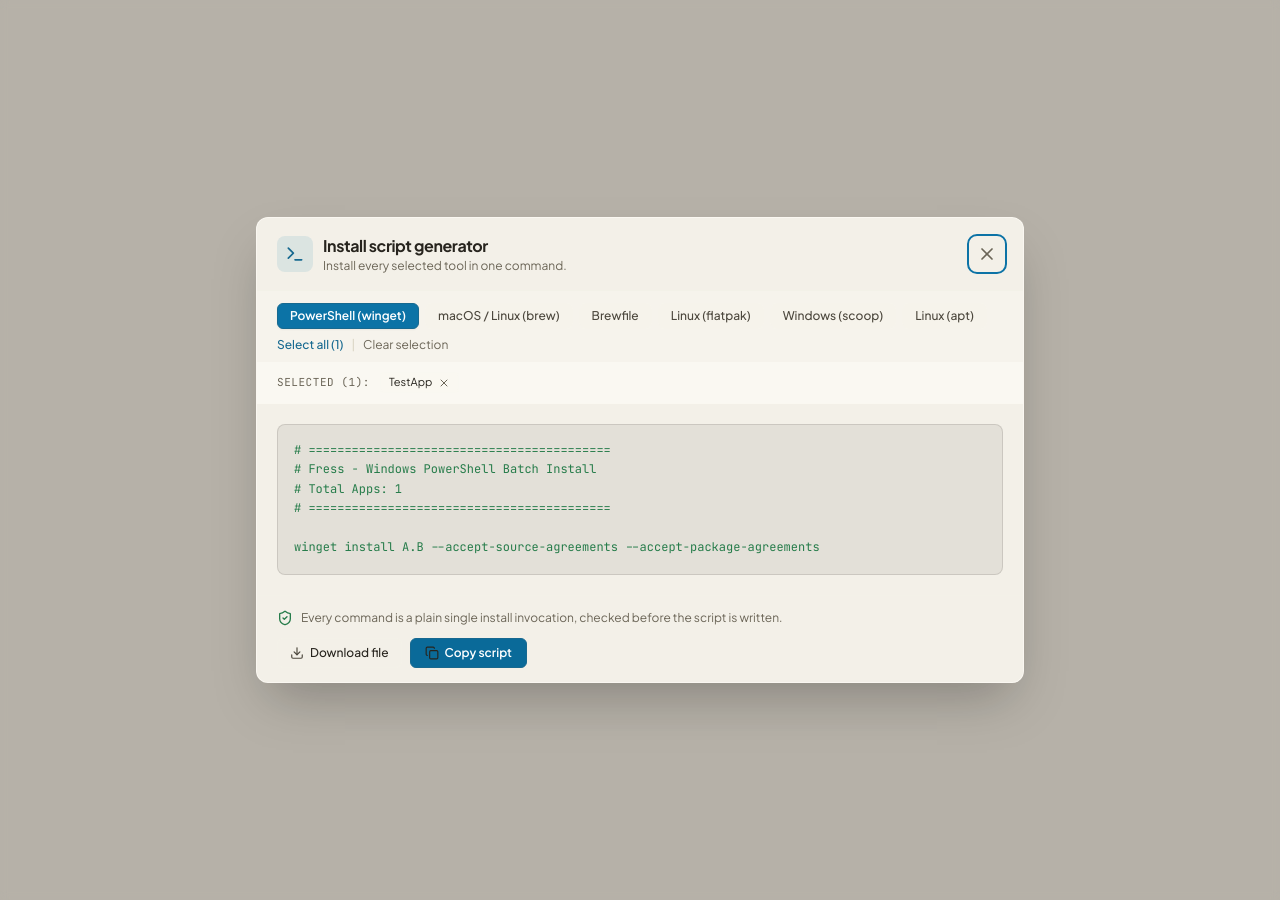
Test: batch script generation speaks the active language › switching the script format clears the stale Copied feedback
Click the button "Copy script" at [468, 653], box x1=410 y1=638 x2=527 y2=668
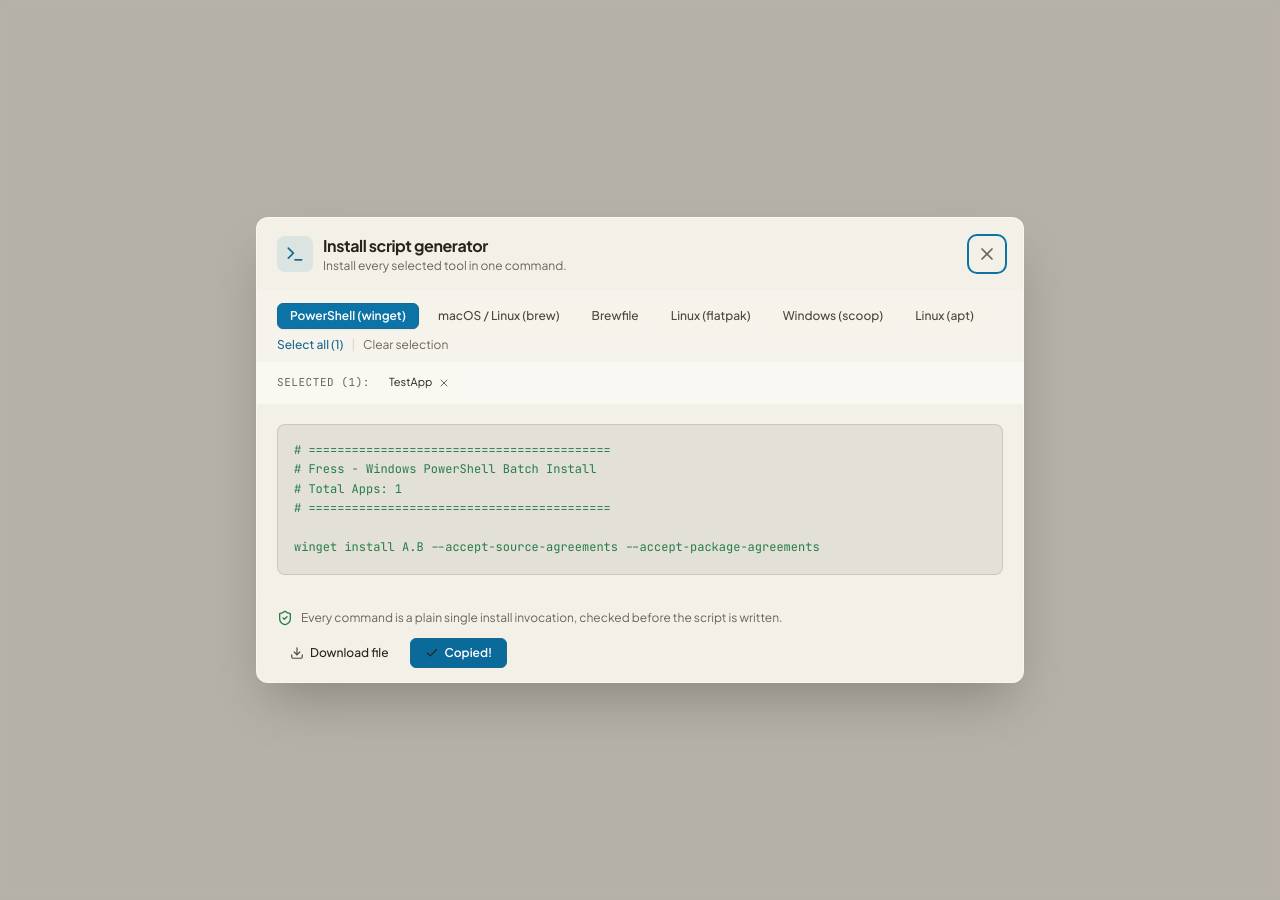
Result: the text "Copied!" is shown at x1=445 y1=645 x2=492 y2=661
Click the button "macOS / Linux (brew)" at [499, 316], box x1=425 y1=303 x2=573 y2=329
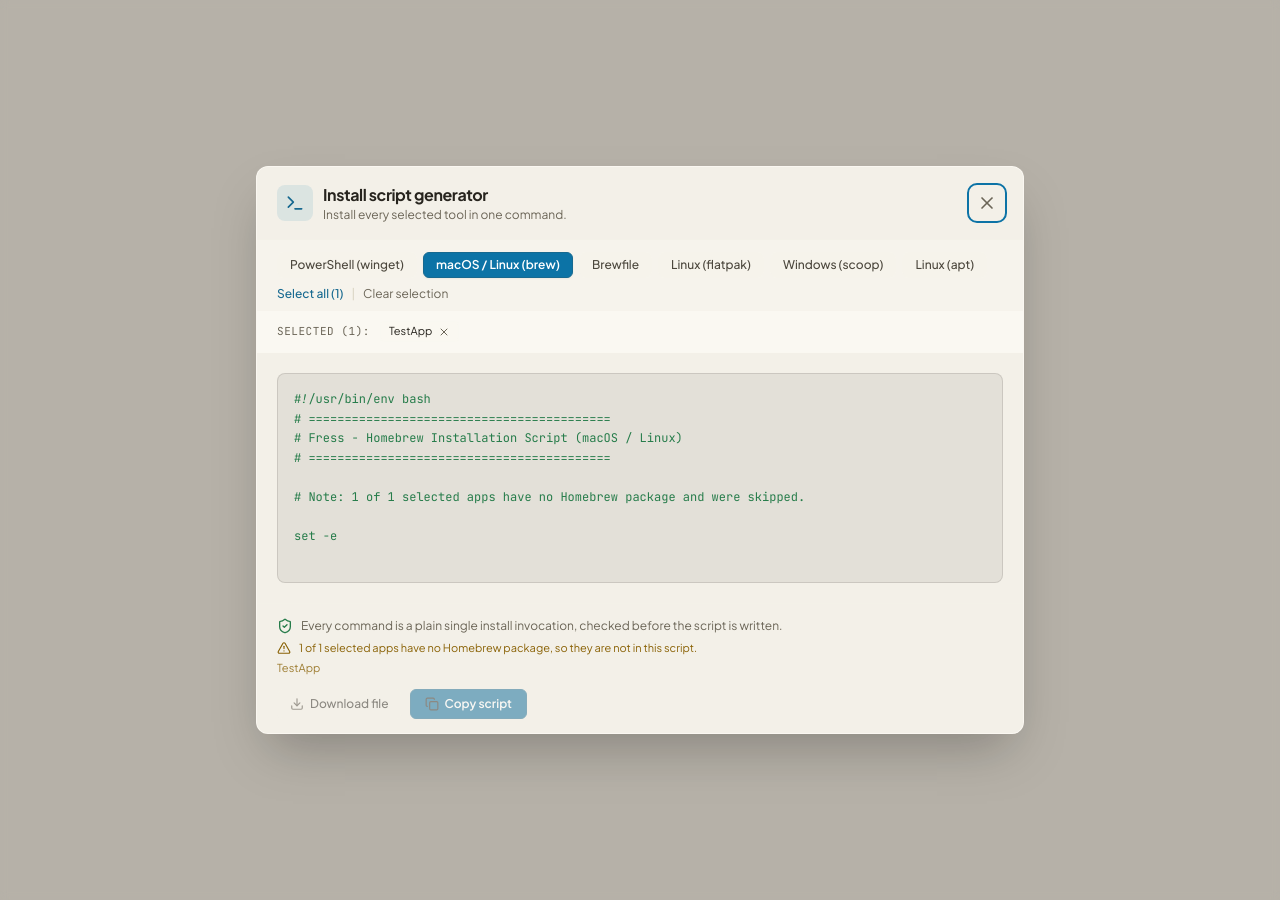
Result: no buttons "Copied!" are shown
